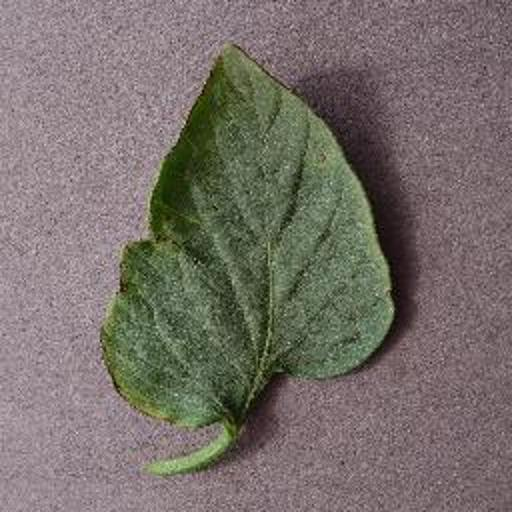Target Spot: (88, 23, 410, 472)
